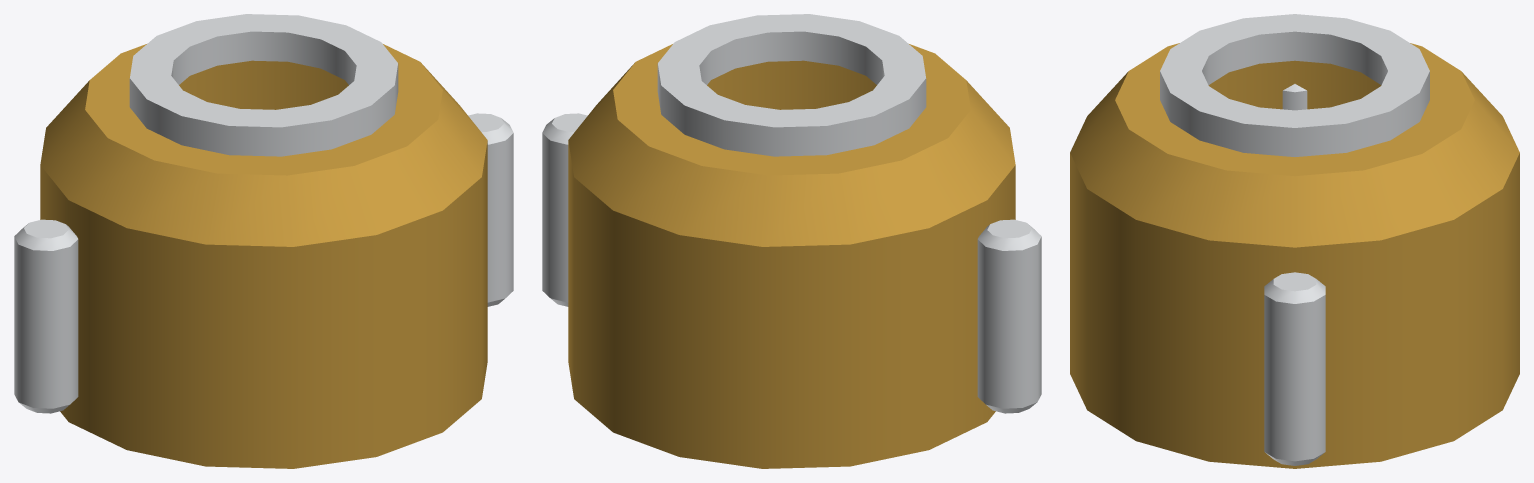
The model's file is sm1_actuator.obj.
3 renders of one model, left to right at view 1: azimuth 30°, elevation 25°; view 2: azimuth 150°, elevation 25°; view 3: azimuth 270°, elevation 25°, orthographic.
Parts seen in each view (by area): view 1: sm1_actuator; view 2: sm1_actuator; view 3: sm1_actuator.
Part boxes in pixels (x1,y1,x2,y2): sm1_actuator: (14, 14, 513, 468); sm1_actuator: (542, 14, 1041, 468); sm1_actuator: (1070, 14, 1519, 468).
Bounding box in the file's own units: 1.76 × 1.04 × 1.4.
